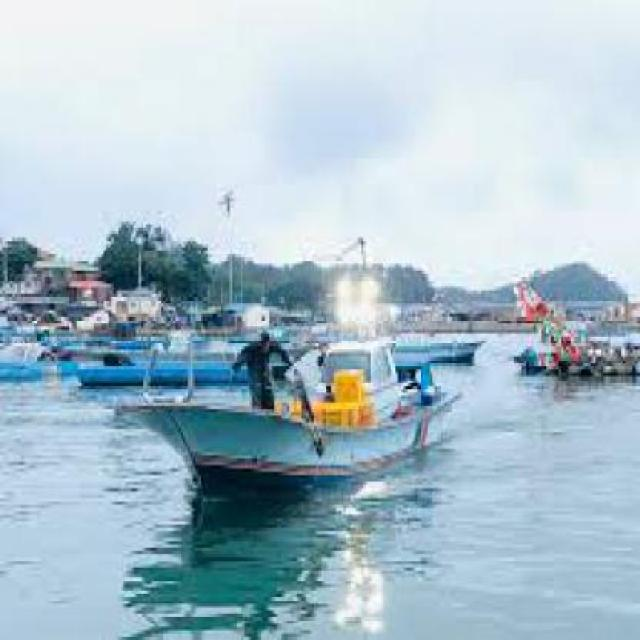fish-b: (124, 325, 481, 499)
